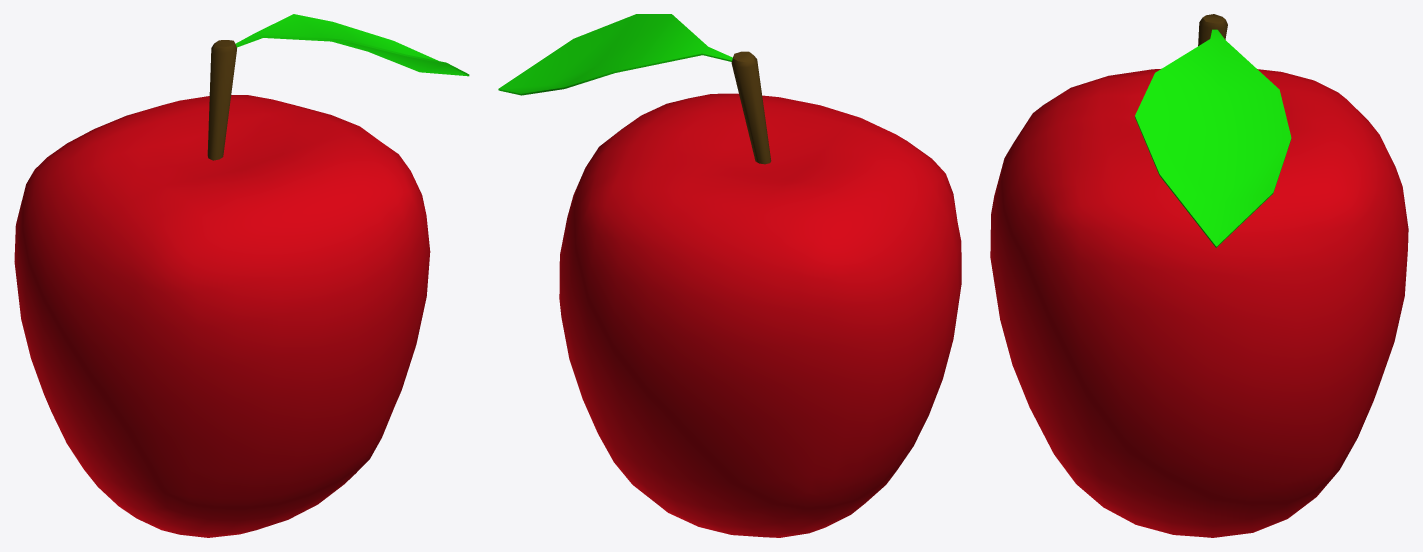
The model's file is Apple.fbx.
3 renders of one model, left to right at view 1: azimuth 30°, elevation 25°; view 2: azimuth 150°, elevation 25°; view 3: azimuth 270°, elevation 25°, orthographic. The views are drawn at different scales.
Visible parts, largest first — view 1: Apple_apple_lvl3; view 2: Apple_apple_lvl3; view 3: Apple_apple_lvl3.
Part boxes in pixels (x1,y1,x2,y2): Apple_apple_lvl3: [14, 14, 469, 537]; Apple_apple_lvl3: [498, 14, 961, 537]; Apple_apple_lvl3: [990, 14, 1408, 537].
Bounding box in the file's own units: 19.63 × 15.31 × 20.41.
